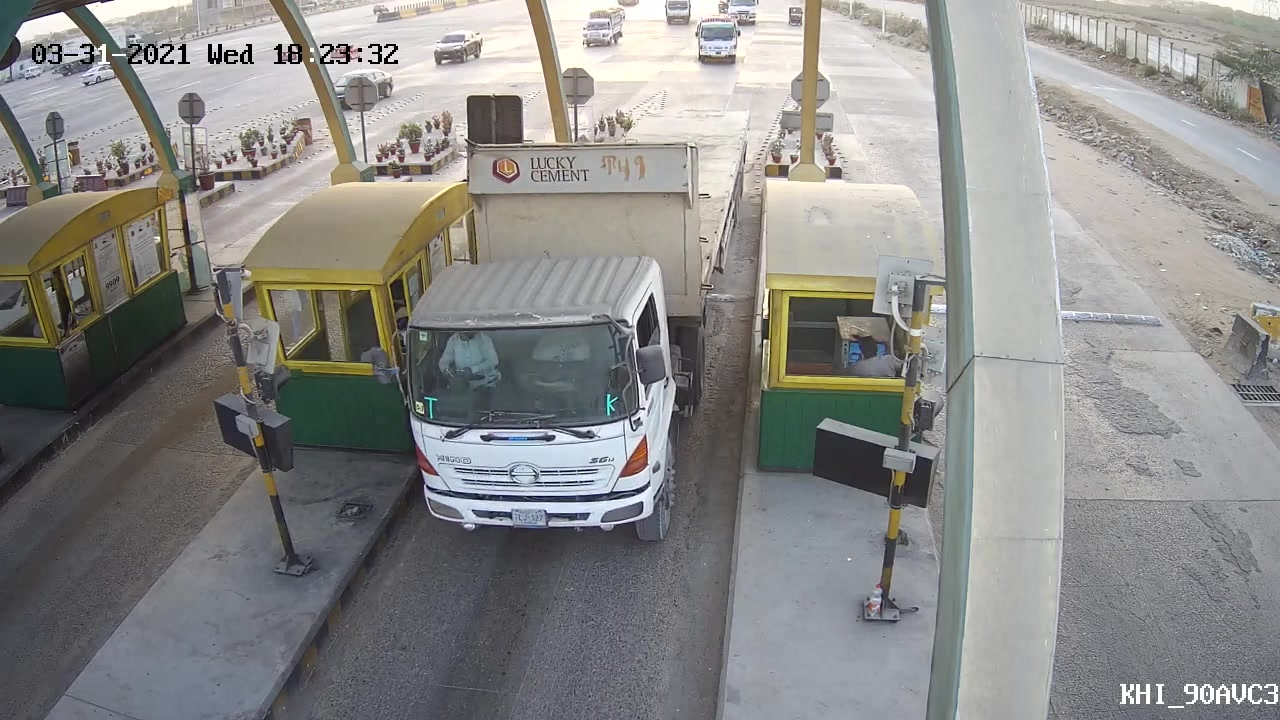F6: (400, 97, 752, 549)
